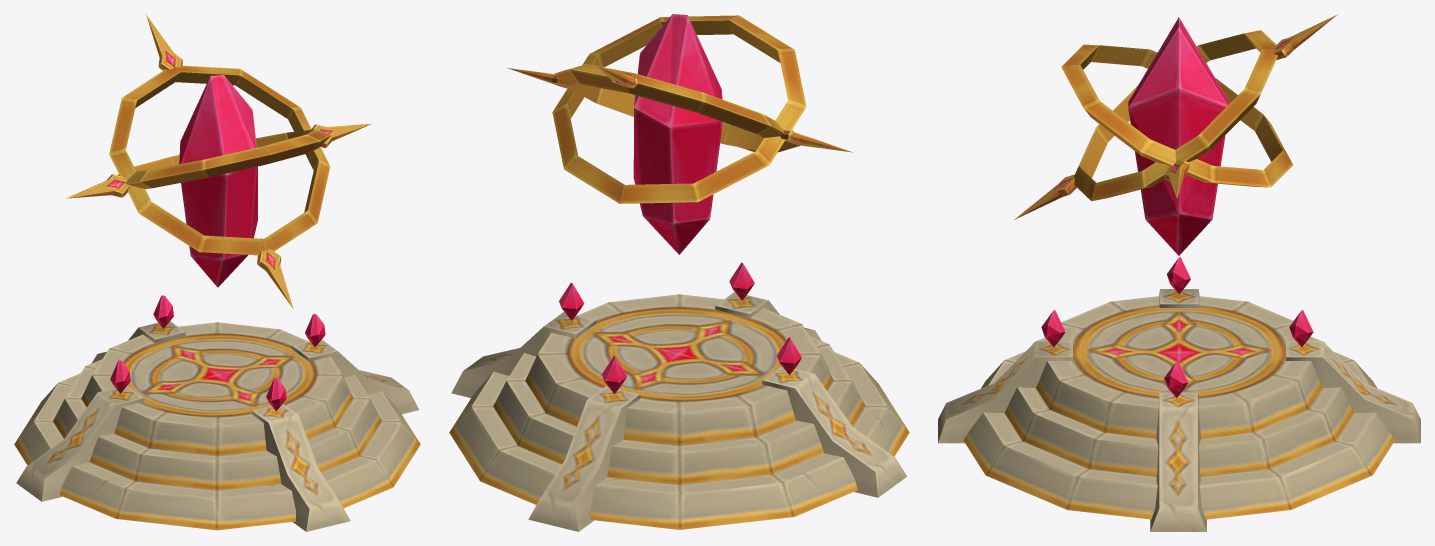
File: ice_prop_7.FBX
3 renders of one model, left to right at view 1: azimuth 30°, elevation 25°; view 2: azimuth 150°, elevation 25°; view 3: azimuth 270°, elevation 25°, orthographic. The views are drawn at different scales.
Parts seen in each view (by area): view 1: Object047; view 2: Object047; view 3: Object047.
Part boxes in pixels (x1,y1,x2,y2): Object047: (14,14,420,531); Object047: (449,14,909,531); Object047: (938,14,1420,531).
Bounding box in the file's own units: 118 × 119 × 113.
